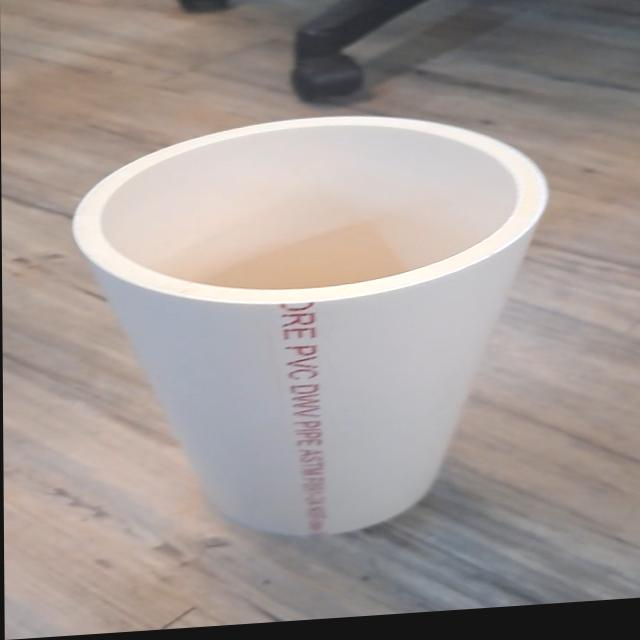CORAL: (61, 92, 534, 556)
